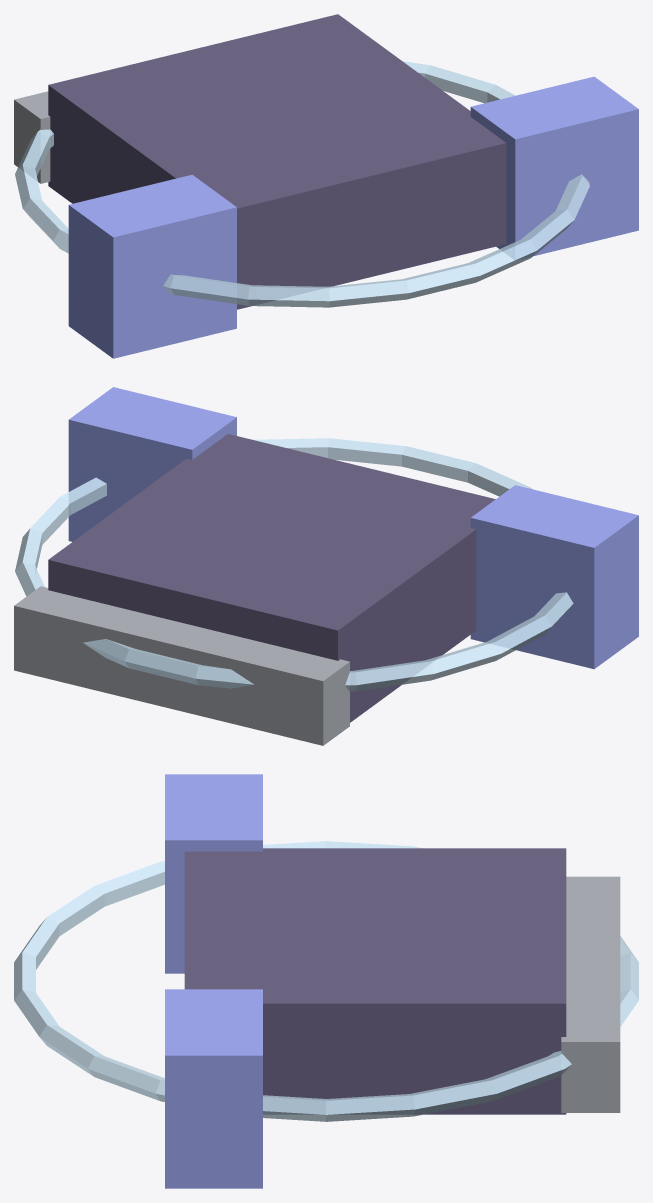
The model's file is 04_magic_armor_upgrade.glb.
3 renders of one model, top to bottom at view 1: azimuth 30°, elevation 25°; view 2: azimuth 150°, elevation 25°; view 3: azimuth 270°, elevation 25°, orthographic. The views are drawn at different scales.
Parts seen in each view (by area): view 1: chest_plate, pauldron_l, pauldron_r, warding_aura, waist_guard; view 2: chest_plate, waist_guard, pauldron_l, warding_aura, pauldron_r; view 3: chest_plate, pauldron_r, warding_aura, waist_guard, pauldron_l.
Part boxes in pixels (x1,y1,x2,y2): chest_plate: [48, 14, 506, 309]; pauldron_l: [68, 174, 236, 358]; pauldron_r: [470, 76, 638, 259]; warding_aura: [15, 61, 589, 307]; waist_guard: [14, 91, 50, 183]; chest_plate: [48, 434, 495, 722]; waist_guard: [14, 586, 349, 745]; pauldron_l: [470, 485, 638, 669]; warding_aura: [15, 438, 573, 691]; pauldron_r: [68, 387, 236, 541]; chest_plate: [184, 848, 566, 1114]; pauldron_r: [165, 989, 262, 1188]; warding_aura: [14, 841, 638, 1121]; waist_guard: [561, 876, 620, 1112]; pauldron_l: [165, 774, 262, 973].
Bounding box in the file's own units: 1.36 × 0.38 × 1.28.
